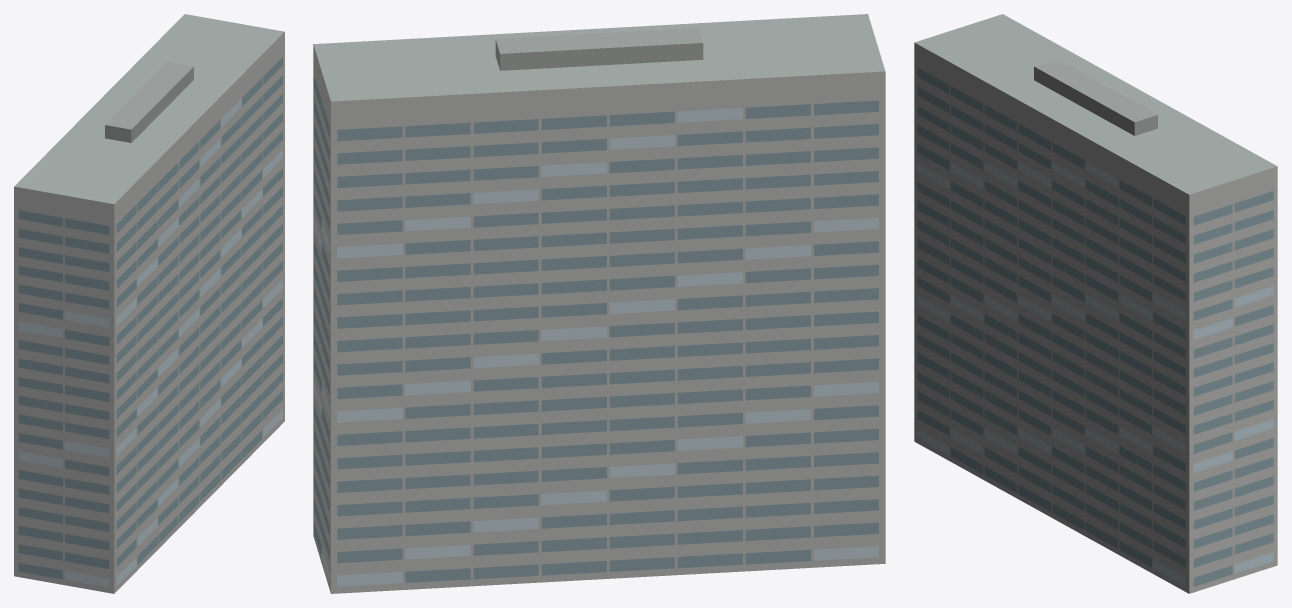
File: apt-a12070201.glb
3 renders of one model, left to right at view 1: azimuth 30°, elevation 25°; view 2: azimuth 150°, elevation 25°; view 3: azimuth 270°, elevation 25°, orthographic. The views are drawn at different scales.
Parts seen in each view (by area): view 1: apt-a12070201; view 2: apt-a12070201; view 3: apt-a12070201.
Part boxes in pixels (bbox=[...]): apt-a12070201: bbox=[14, 14, 284, 593]; apt-a12070201: bbox=[313, 14, 885, 593]; apt-a12070201: bbox=[914, 14, 1277, 593].
Bounding box in the file's own units: 67.61 × 72 × 57.41.
